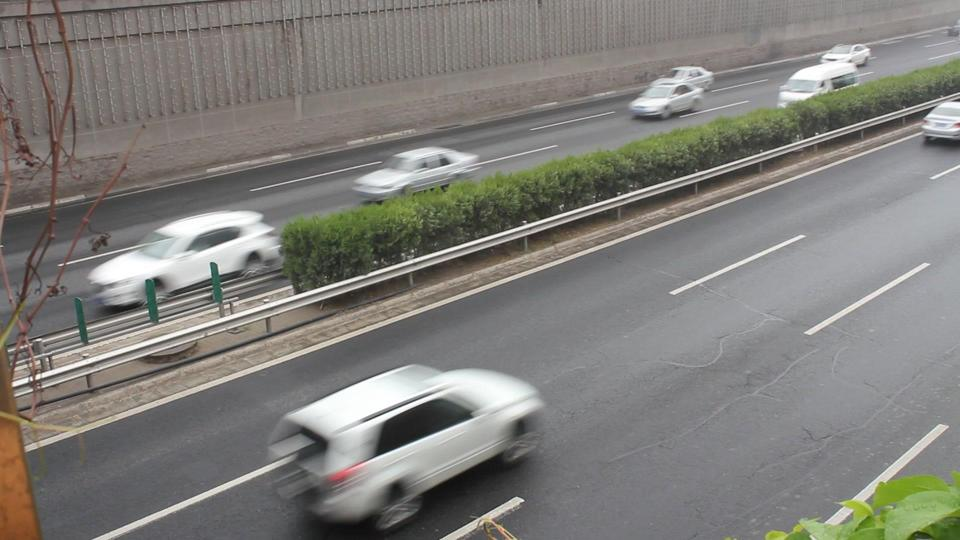car: (264, 363, 547, 537), (85, 209, 284, 314), (349, 146, 482, 202), (627, 65, 715, 121), (921, 99, 960, 143), (819, 43, 875, 67)
truck: (776, 61, 862, 108)
